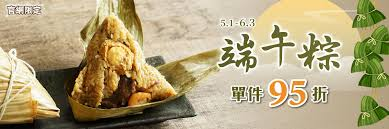zongzi: (71, 14, 176, 107), (0, 47, 59, 124)
